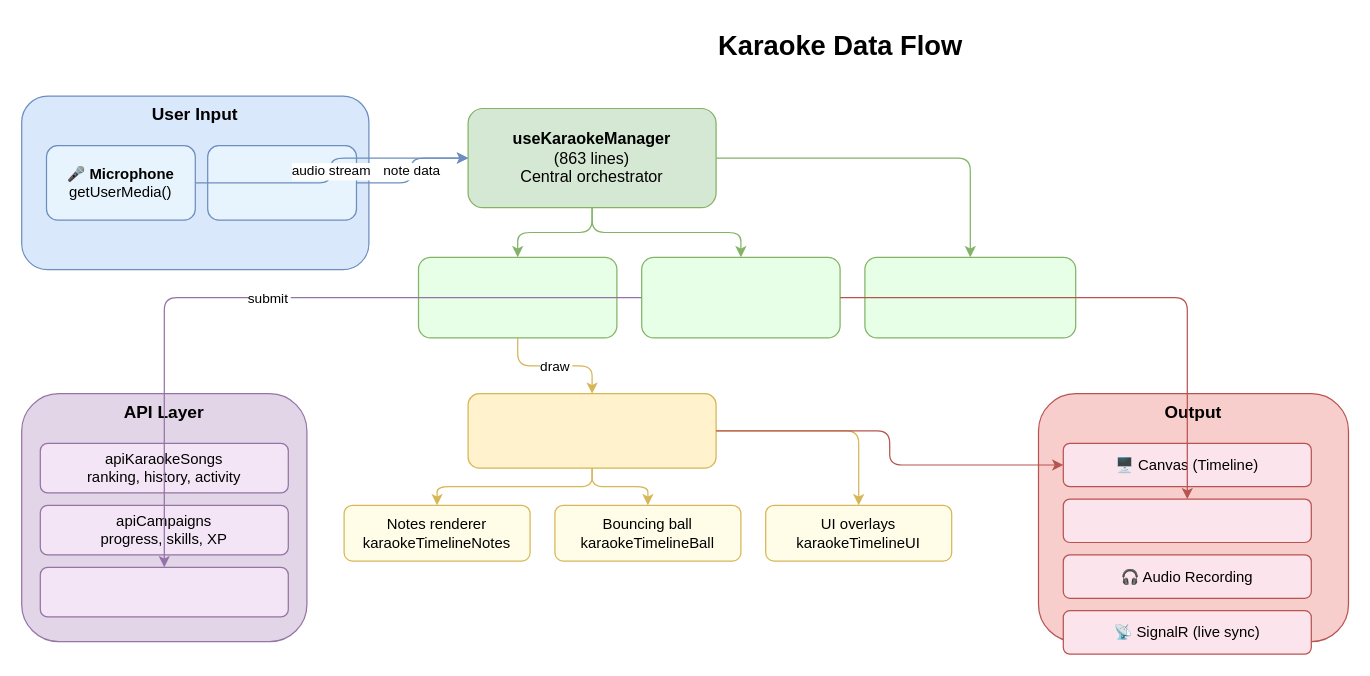
Some shapes in this 1370 by 676 pixel diagram are drawn without their labels. Here are the shapes that lost their labels. From the top down, the centre of each, then its label:
point (281, 182): 📜 Lyrics UltraStar format
point (517, 297): useKaraokePitch AudioPitchAnalyzer ACF + YIN algorithm
point (740, 297): useKaraokeScoring scoreSinging() pitch + timing + bonus
point (970, 297): useKaraokeTranscription Real-time text overlay
point (591, 430): karaokeTimeline Canvas rendering engine
point (1186, 520): 📊 Score Display
point (163, 591): apiSinging submit score, recording
